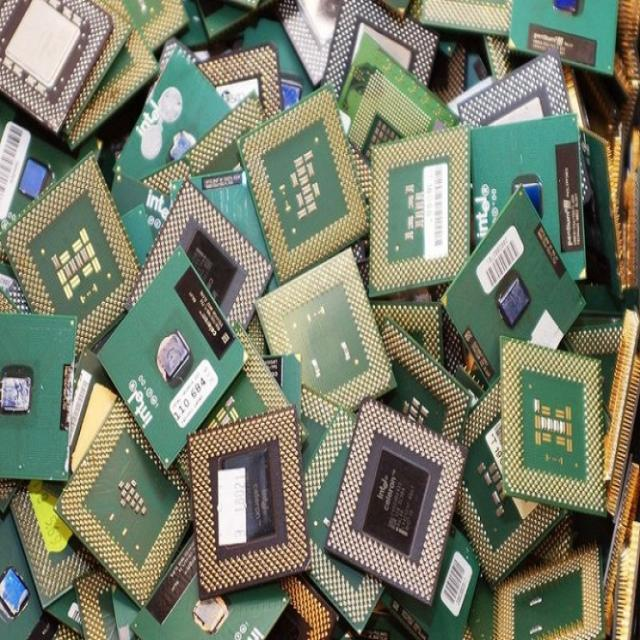hazard: (10, 0, 640, 617)
